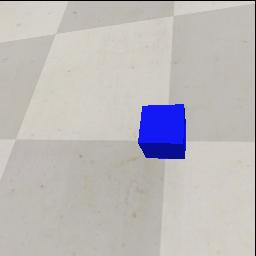box: (138, 104, 187, 159)
